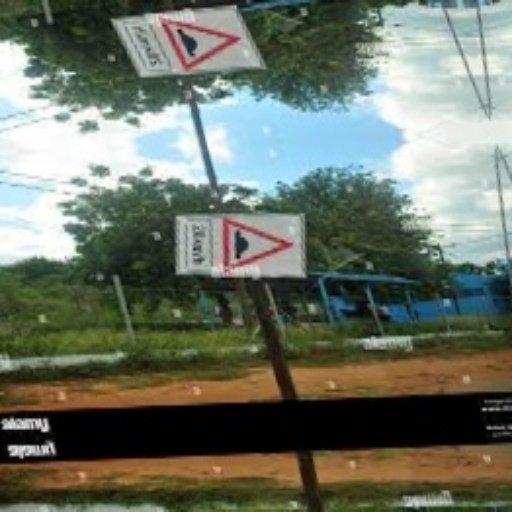Speed Breaker ahead: (210, 188, 326, 300), (145, 7, 286, 89)
